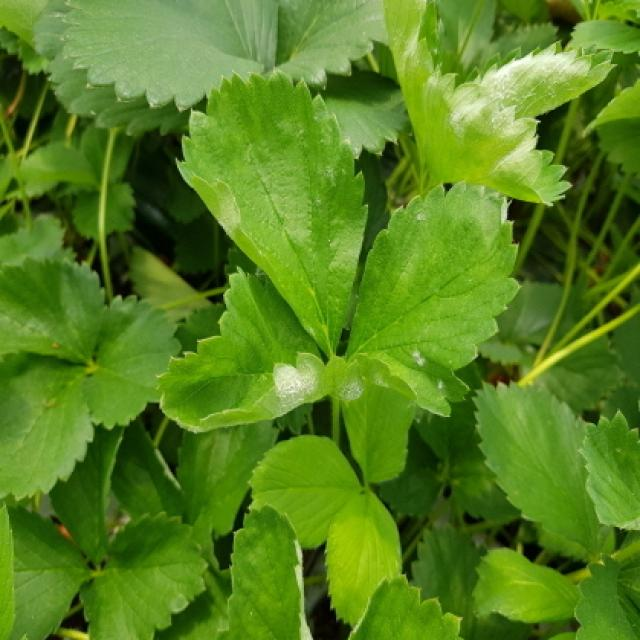Powdery Mildew Leaf: (344, 181, 521, 418), (383, 0, 575, 206), (154, 266, 365, 435), (215, 504, 315, 638), (461, 40, 620, 119)
